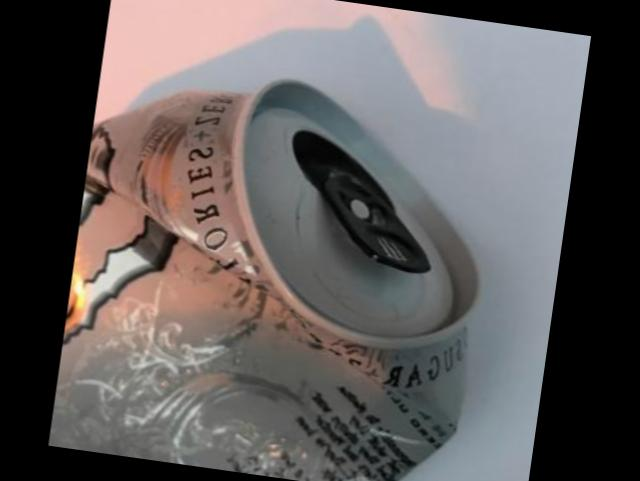metal: (48, 78, 473, 481)
